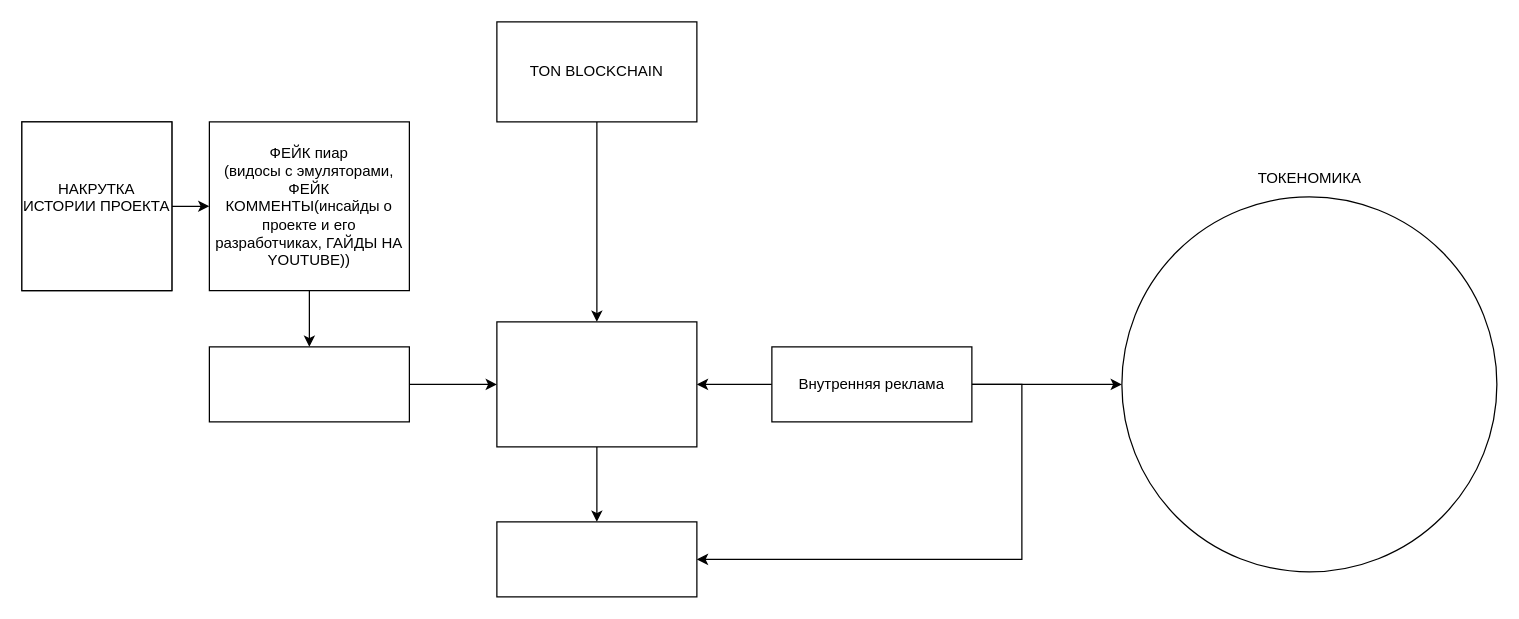
Some shapes in this 1519 by 619 pixel diagram are drawn without their labels. Here are the shapes that lost their labels. From the top down, the centre of each, then its label:
At point (308, 384): "ПИАР(тикток и тп)".
At point (596, 384): "МОБИЛЬНОЕ ПРИЛОЖЕНИЕ(ИГРА ) с зачислением токенов".
At point (596, 559): "ЛИСТИНГ(опционально)".
